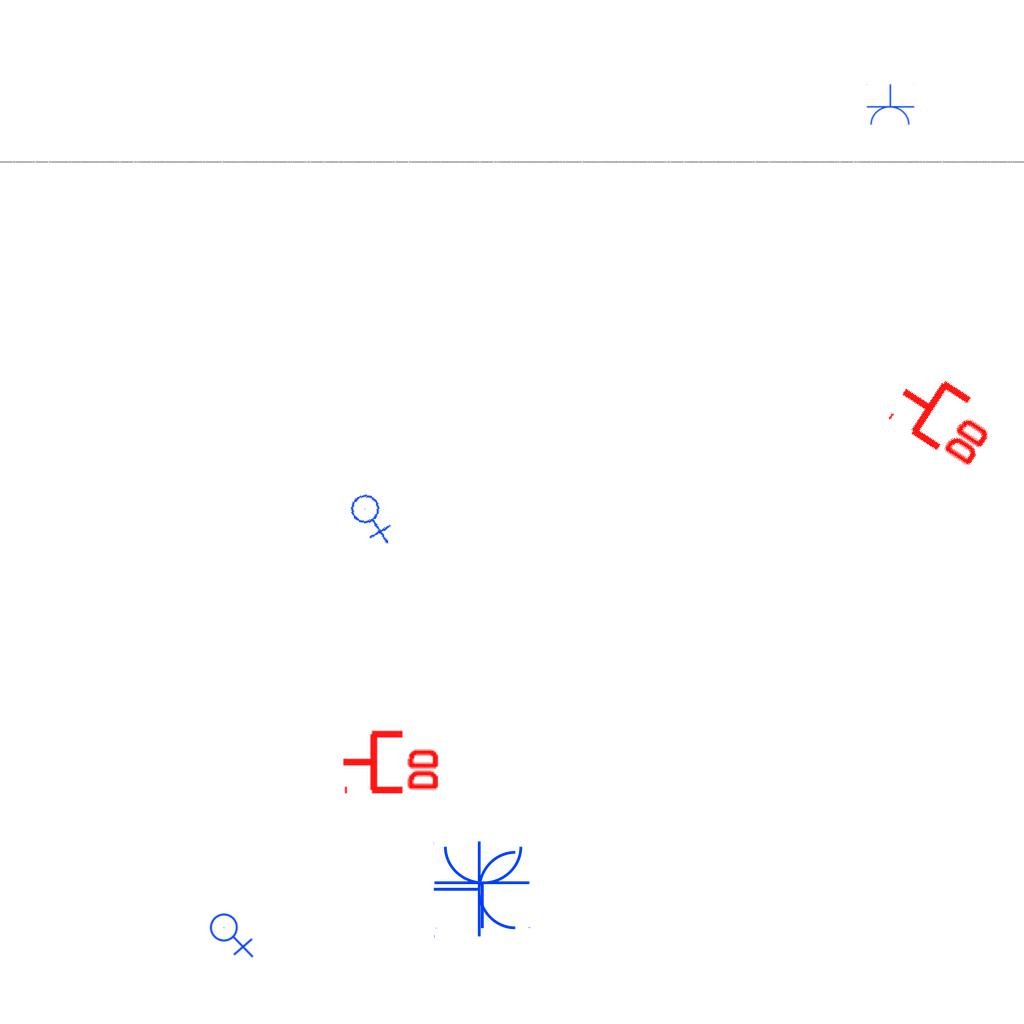Datenanschluss_zweifach: (883, 359, 1008, 474), (340, 726, 443, 795)
Elektroanschluss_allgemein_230V_Geraeteanschlussdose_230V: (344, 487, 401, 546), (209, 909, 256, 958)
Schukosteckdose_einfach: (433, 840, 520, 940), (433, 842, 533, 929), (865, 84, 915, 127)
